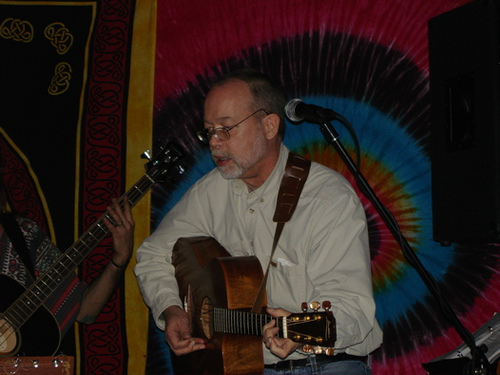guitar: (159, 235, 336, 375)
